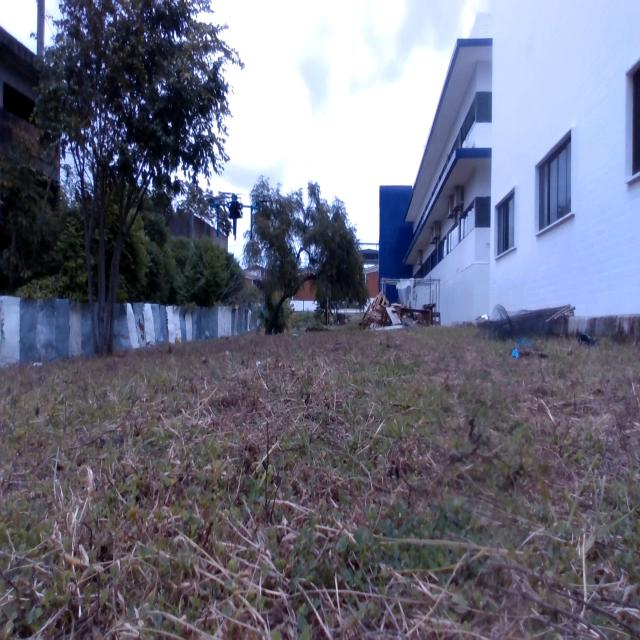-uav-: (206, 184, 262, 244)
